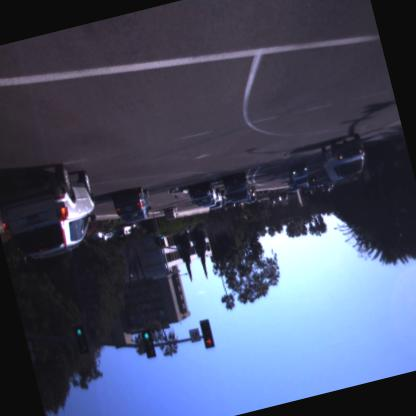trafficlight: (197, 315, 219, 356), (137, 325, 159, 364), (69, 322, 92, 359)
